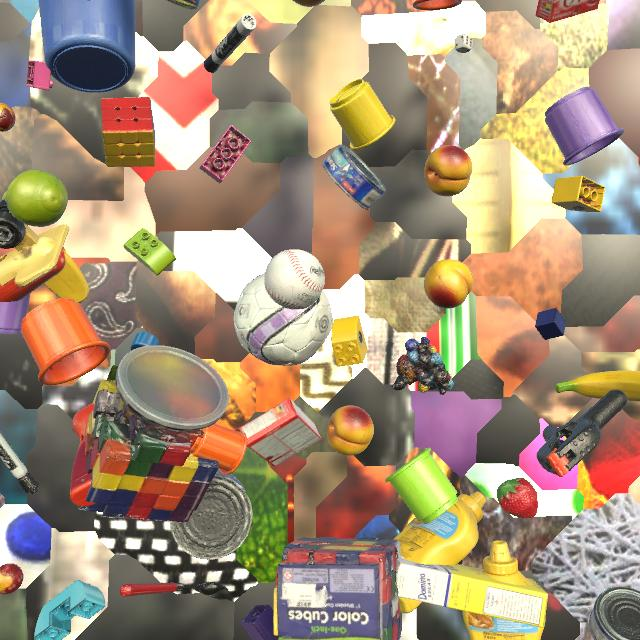ycb_002_master_chef_can: (169, 469, 253, 560)
ycb_004_sugar_box: (396, 558, 548, 628)
ycb_006_mustard_bottle: (393, 492, 486, 614), (463, 540, 546, 640)
ycb_007_tuna_fish_can: (322, 144, 386, 210), (589, 587, 640, 640)
ycb_009_gelatin_box: (239, 398, 323, 467), (535, 0, 600, 23)
ycb_010_potted_meat_can: (167, 0, 200, 10)
ycb_011_banana: (555, 371, 640, 402)
ycb_012_strawberry: (497, 478, 538, 518)
ycb_015_peach: (424, 259, 473, 309), (424, 145, 472, 196), (327, 405, 374, 456), (293, 0, 325, 7)
ycb_016_pear: (2, 170, 68, 227)
